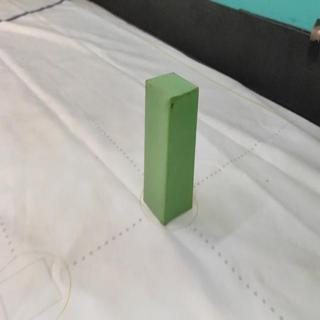greenbox: (143, 70, 200, 227)
